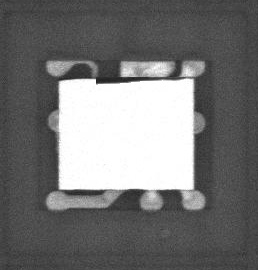DIE_BROKEN: (93, 74, 171, 86)
